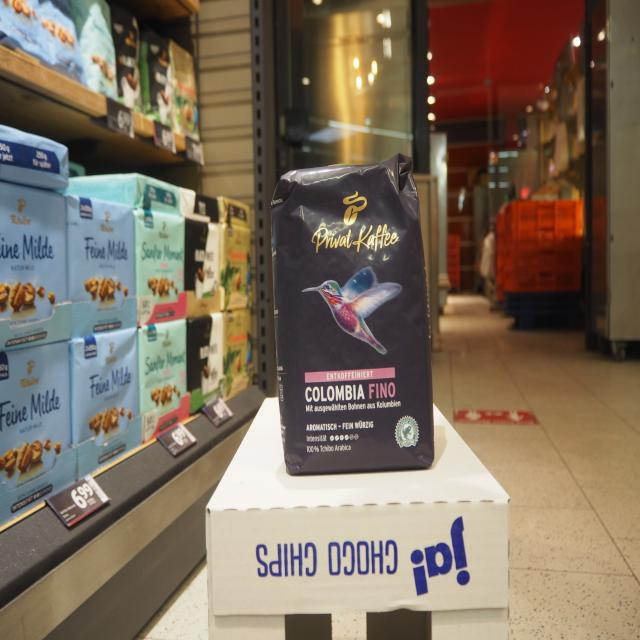C Fino Bohne: (266, 148, 437, 476)
